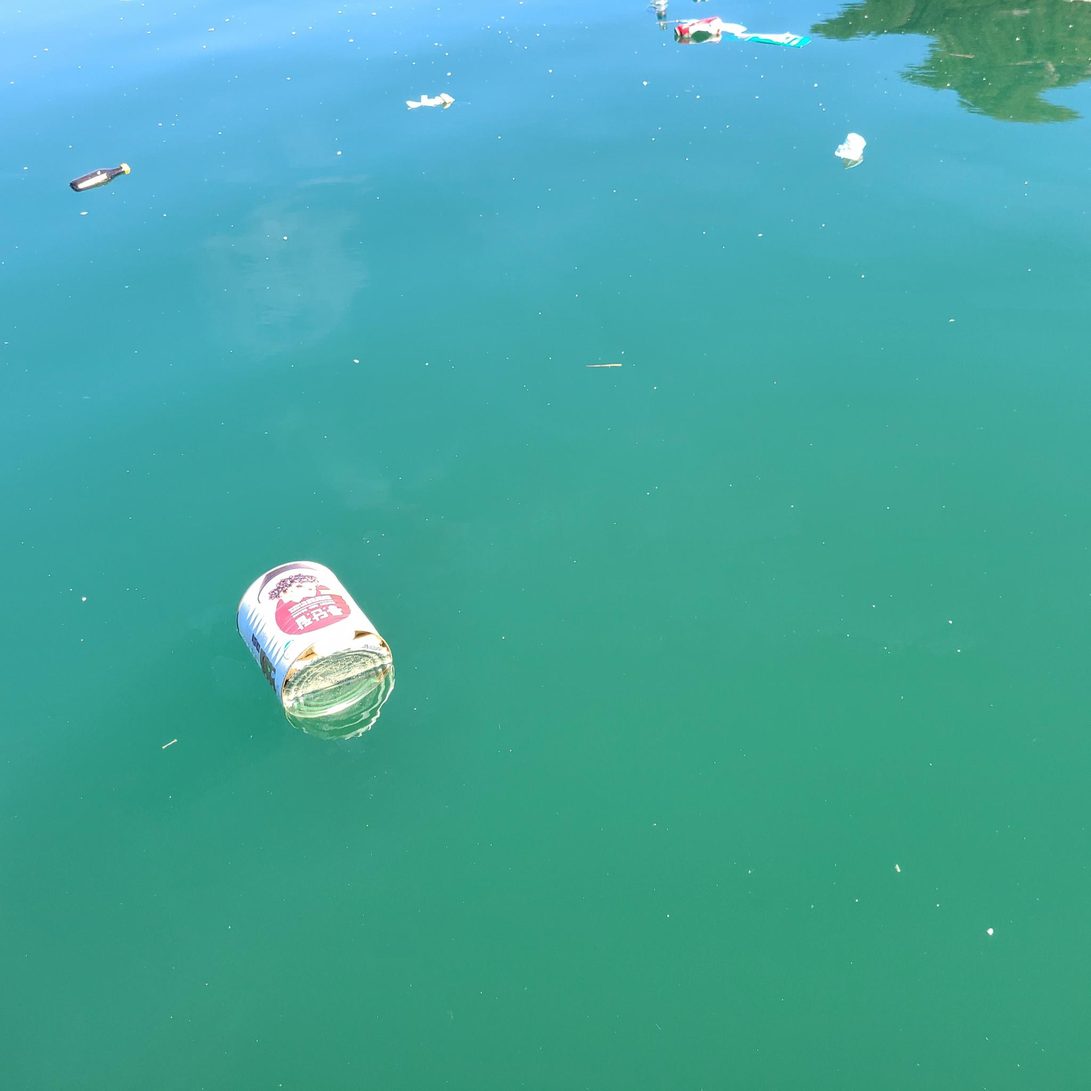sampah_terapung: (70, 163, 131, 192), (675, 17, 723, 38), (835, 134, 867, 161), (650, 1, 670, 32)
